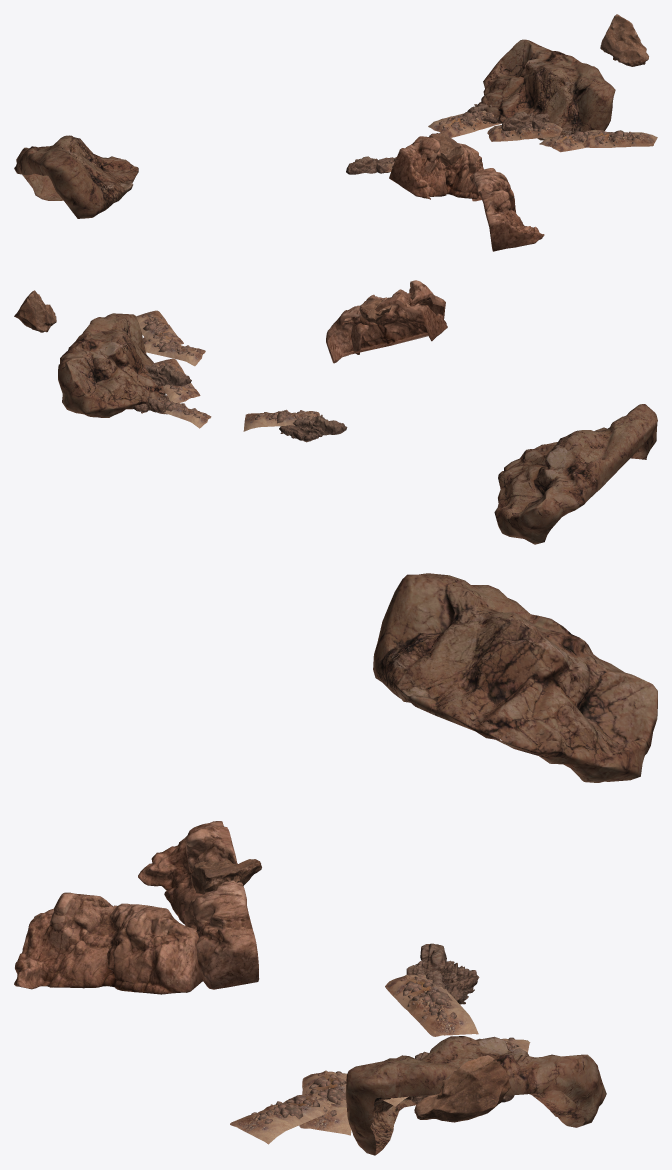
3 views of the same model, one above another, from view 1: azimuth 30°, elevation 25°; view 2: azimuth 150°, elevation 25°; view 3: azimuth 270°, elevation 25° (orthographic). The views are drawn at different scales.
Parts seen in each view (by area): view 1: Lobby_CliffStoneGroup02_SM_YCY; view 2: Lobby_CliffStoneGroup02_SM_YCY; view 3: Lobby_CliffStoneGroup02_SM_YCY.
Boxes of the visible parts, bbox=[...] form: Lobby_CliffStoneGroup02_SM_YCY: bbox=[14, 14, 657, 251]; Lobby_CliffStoneGroup02_SM_YCY: bbox=[14, 280, 657, 544]; Lobby_CliffStoneGroup02_SM_YCY: bbox=[14, 573, 657, 1155].
Bounding box in the file's own units: 50.11 × 8.24 × 28.2.
1 material, 1 textured.
